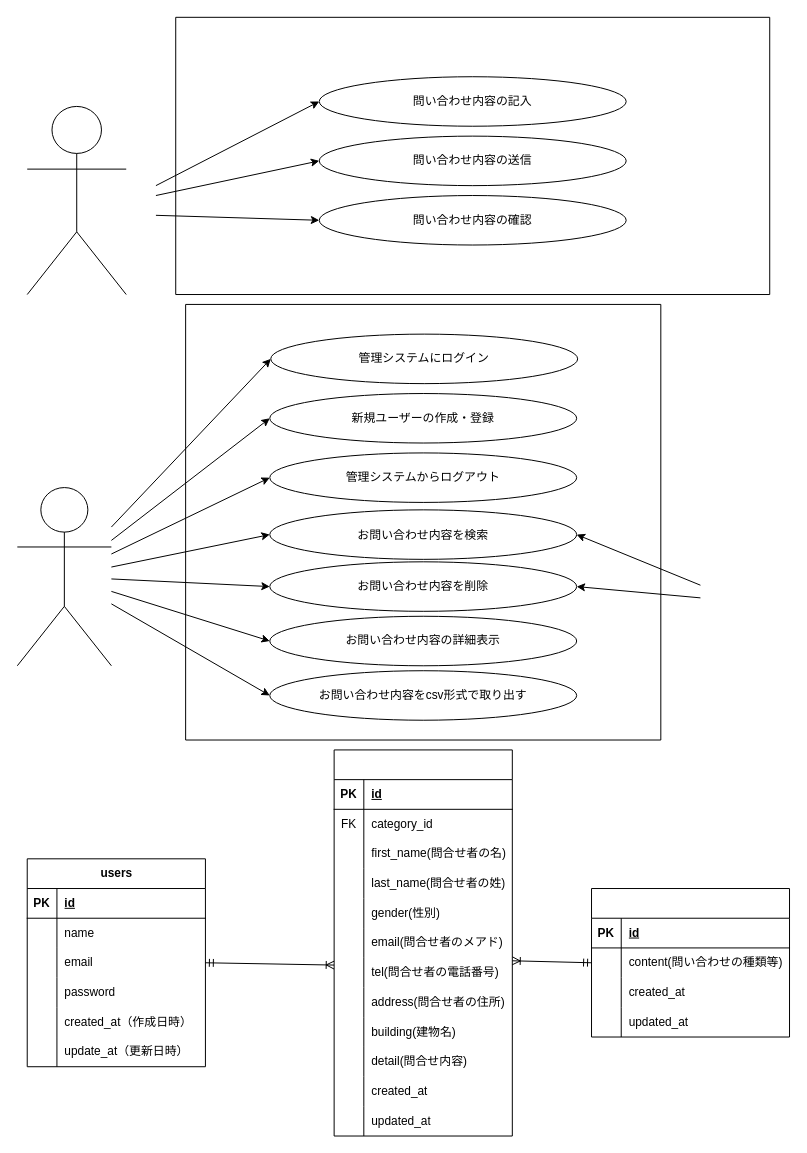
This 807x1153 diagram has some shape labels left out. Each missing label, with the box of its shape:
categories: (591, 888, 790, 1037)
contacts: (333, 749, 512, 1136)
ユーザー: (16, 487, 111, 666)
問い合わせ管理システム: (185, 303, 661, 740)
問い合わせ送信システム: (175, 16, 770, 295)
問合せ者: (26, 105, 126, 295)
